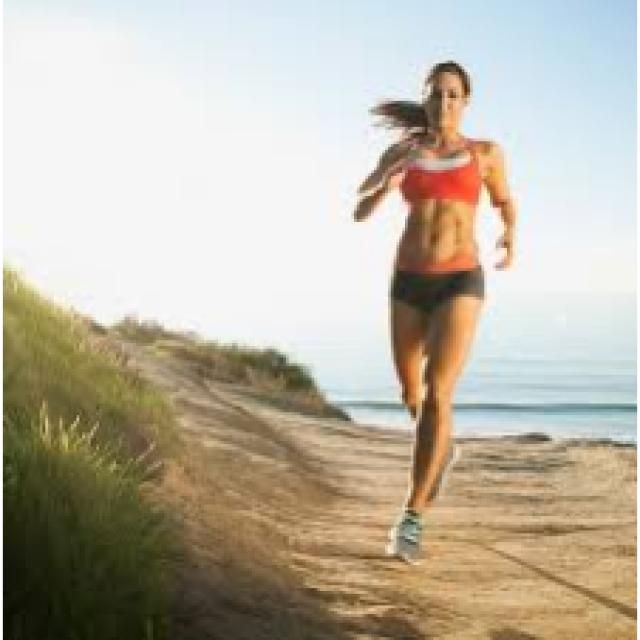running: (352, 56, 520, 564)
